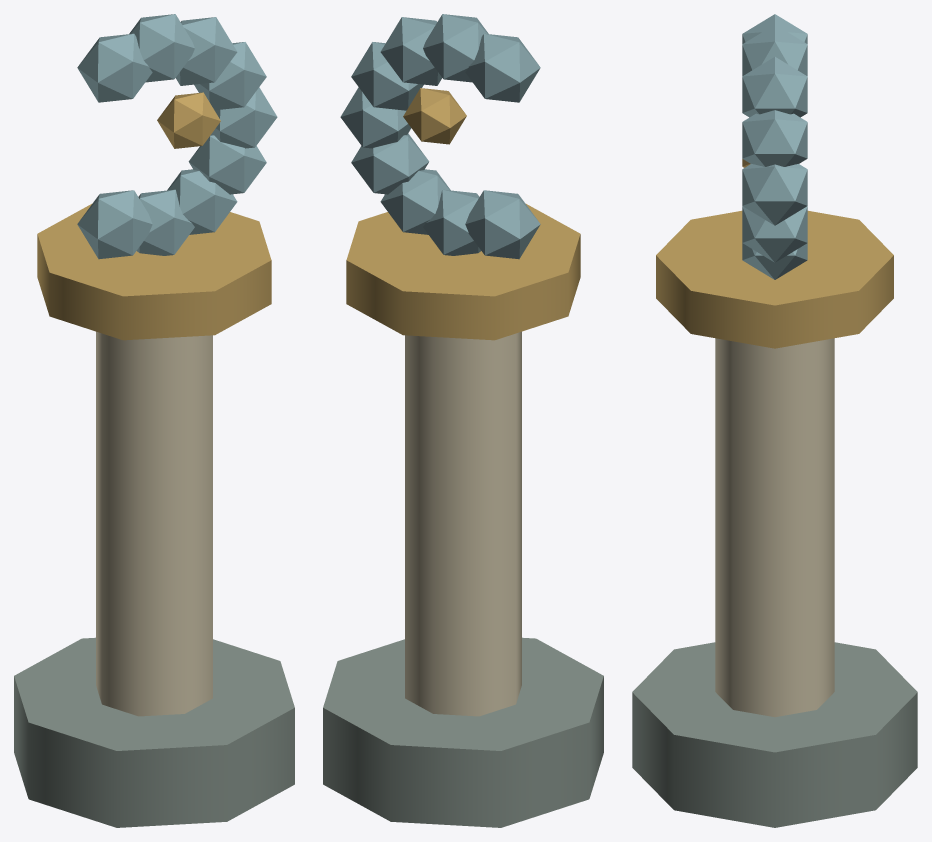
File: decoration-moonstand.glb
3 views of the same model, side by side, from view 1: azimuth 30°, elevation 25°; view 2: azimuth 150°, elevation 25°; view 3: azimuth 270°, elevation 25° (orthographic).
Visible parts, largest first — view 1: decoration-moonstand-visual; view 2: decoration-moonstand-visual; view 3: decoration-moonstand-visual.
Boxes of the visible parts, left/top/right/bottom form: decoration-moonstand-visual: left=14, top=14, right=294, bottom=827; decoration-moonstand-visual: left=323, top=14, right=603, bottom=827; decoration-moonstand-visual: left=632, top=14, right=917, bottom=827.
Bounding box in the file's own units: 0.48 × 1.36 × 0.48.
